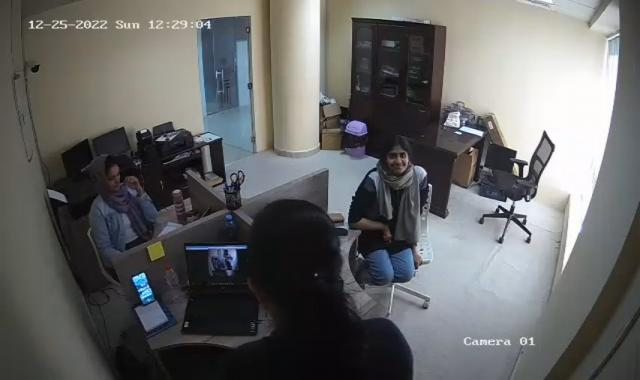no_hairnet: (249, 196, 344, 322), (93, 158, 123, 193), (381, 142, 411, 176)
